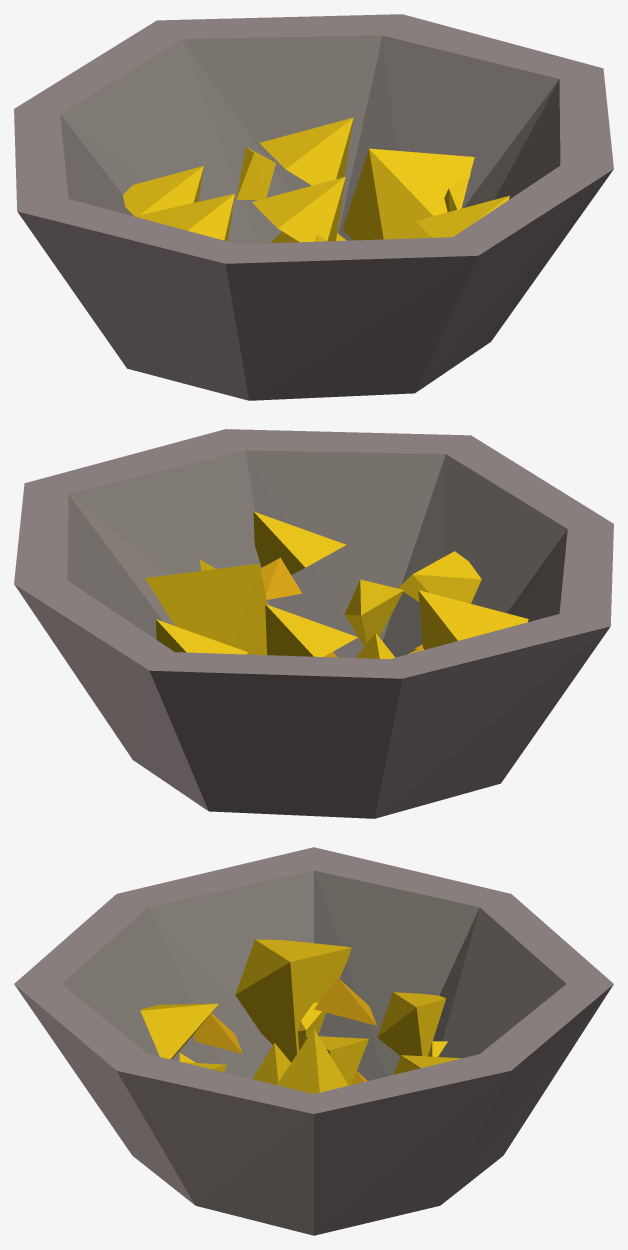
Rendered from inv_panning_tray_2.obj.
3 views of the same model, one above another, from view 1: azimuth 30°, elevation 25°; view 2: azimuth 150°, elevation 25°; view 3: azimuth 270°, elevation 25° (orthographic). The views are drawn at different scales.
Size of the model in its own units: 0.625 by 0.1875 by 0.5938.
